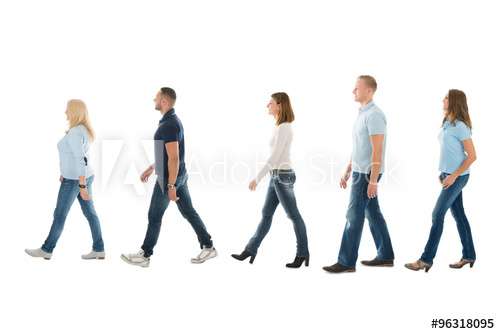NOTSAFE: (149, 87, 191, 184), (54, 95, 95, 186), (353, 73, 387, 176), (440, 88, 474, 185), (267, 91, 295, 185)
